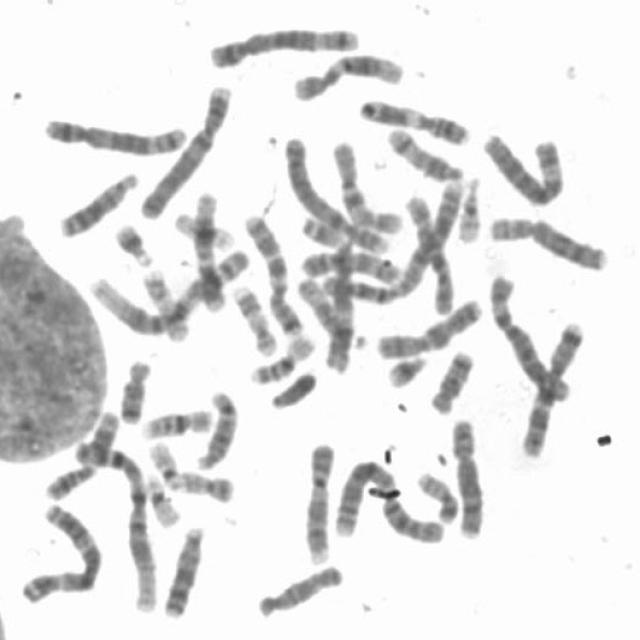A1: (64, 426, 159, 615), (82, 240, 253, 336)
A2: (310, 173, 466, 308), (326, 451, 449, 545)
A3: (295, 205, 359, 378), (12, 493, 105, 605)
B4: (276, 127, 393, 257), (131, 76, 235, 220)
B5: (201, 16, 363, 70), (35, 107, 189, 157)
C10: (324, 132, 406, 235), (397, 187, 458, 316)
C11: (36, 401, 123, 502), (351, 88, 475, 147)
C12: (284, 42, 408, 102), (187, 183, 228, 313)
C6: (482, 263, 574, 403), (475, 123, 568, 208)
C7: (514, 312, 590, 459), (236, 205, 306, 338)
C8: (480, 205, 612, 272), (442, 408, 488, 540)
C9: (296, 434, 338, 566), (292, 242, 406, 285)
D13: (51, 162, 141, 239), (156, 517, 208, 620)
D14: (379, 119, 466, 184), (188, 381, 241, 472)
D15: (249, 555, 346, 620), (290, 269, 363, 352)
E16: (242, 326, 318, 386), (134, 400, 216, 440)
E17: (135, 260, 192, 342), (227, 276, 280, 358)
E18: (422, 341, 476, 415), (111, 350, 154, 424)
F19: (166, 202, 238, 250), (139, 465, 183, 529)
F20: (410, 463, 460, 524), (171, 462, 236, 504)
G21: (106, 213, 156, 268), (378, 345, 431, 390)
G22: (451, 168, 484, 244), (141, 432, 184, 489)
X: (369, 289, 486, 360)
Y: (263, 361, 319, 411)
